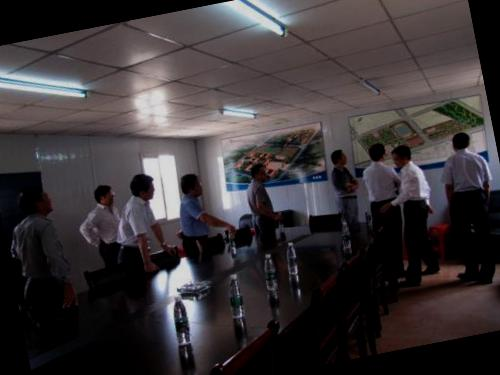no_helmet: (12, 178, 53, 218), (126, 170, 158, 206), (175, 168, 208, 202), (92, 180, 120, 208), (447, 128, 475, 156), (390, 142, 416, 170), (366, 140, 388, 166), (247, 160, 268, 184), (330, 147, 351, 170)
